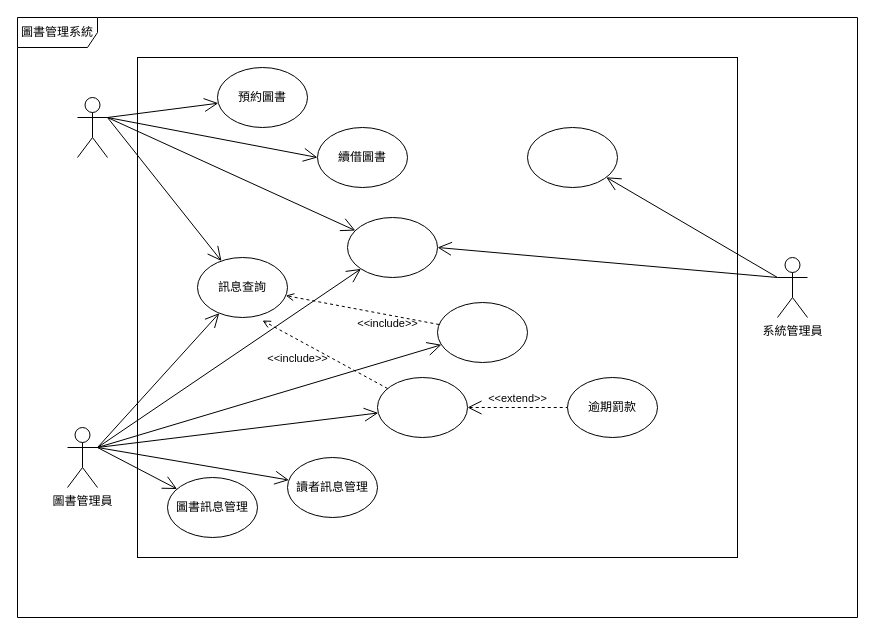
The diagram is 875 pixels wide and 635 high, and some of its shapes have lost their labels. Here are the shapes that lost their labels. From the top down, the box of each, then its label:
(76, 96, 108, 158): 讀者
(526, 126, 618, 188): 系統維護
(346, 216, 438, 278): 登錄
(436, 302, 528, 362): 借書
(376, 376, 468, 438): 還書
